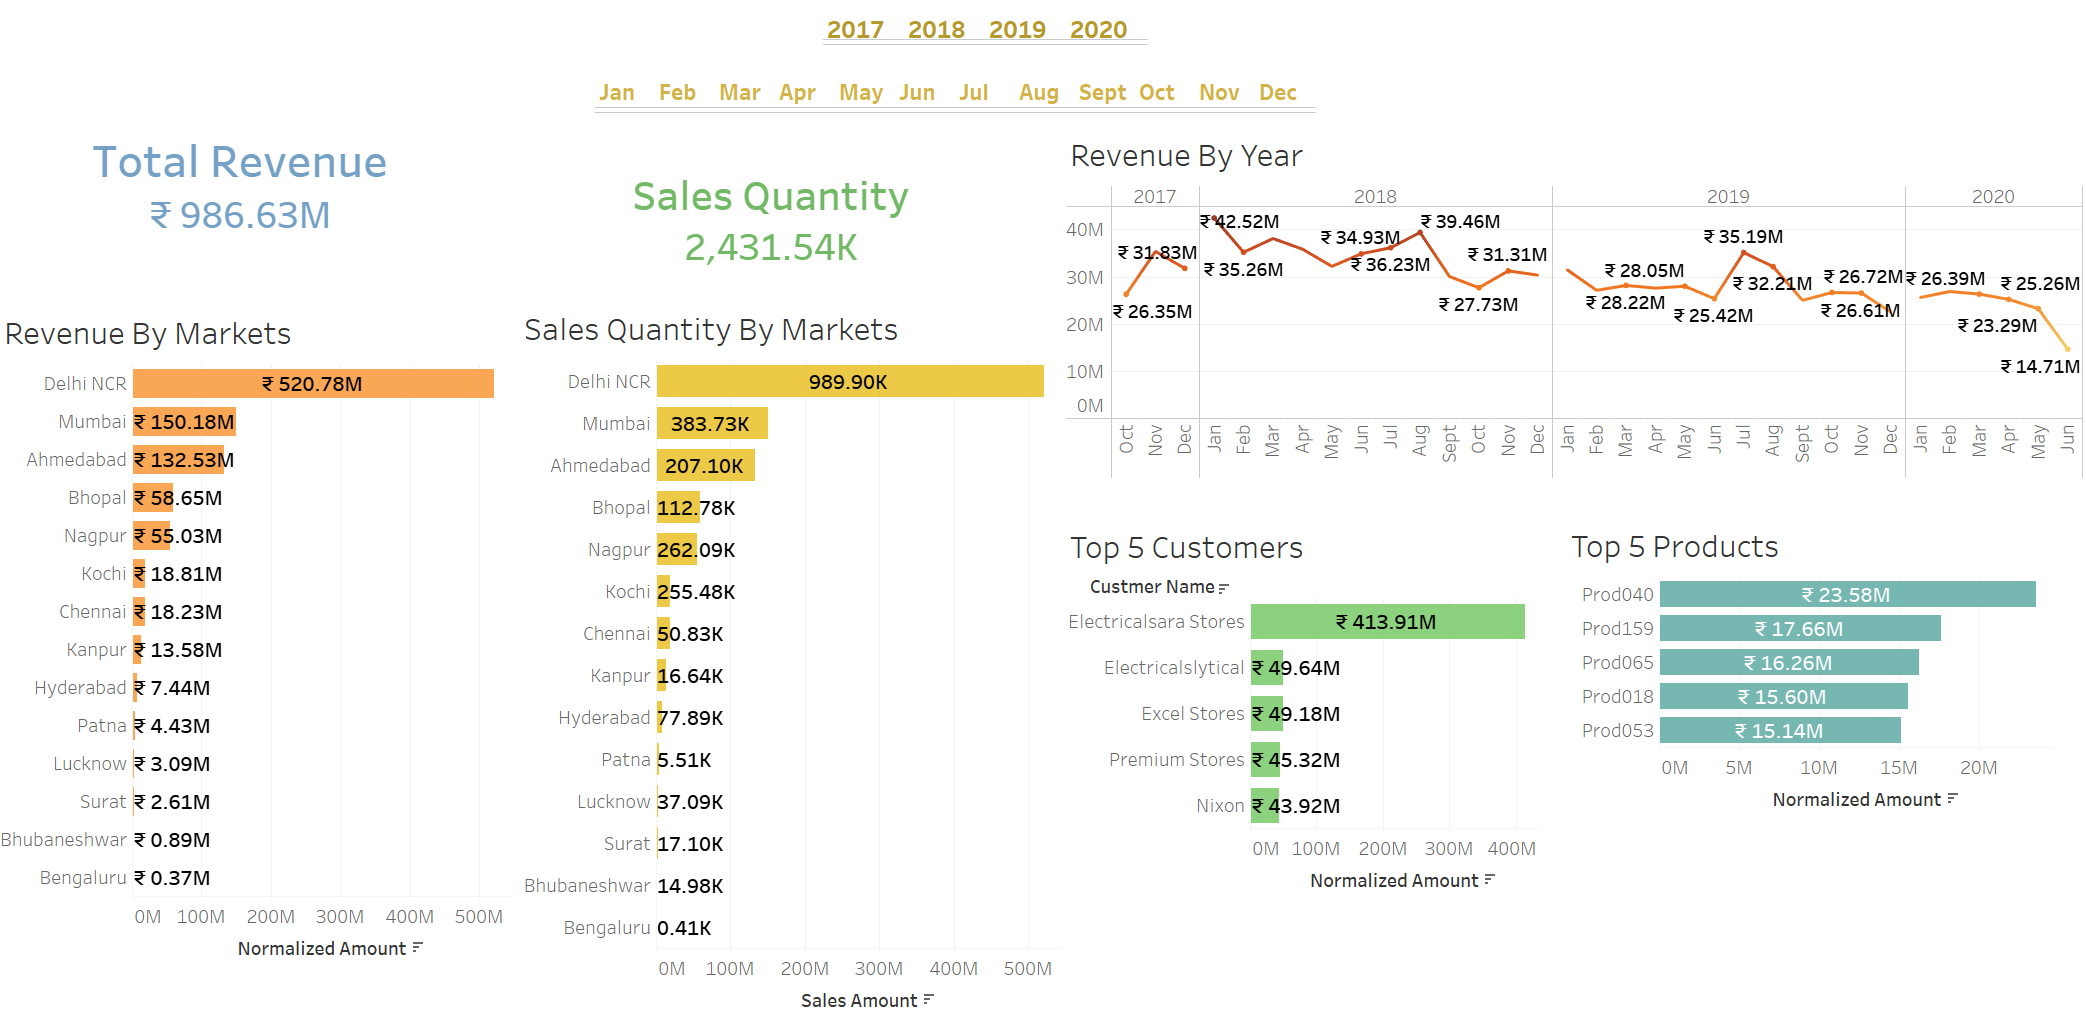

What the dashboard file says about the page in this screenshot:
{"tool":"tableau","page":{"name":"Dashboard 1","canvas":[2100,1050],"ordinal":0},"visuals":[{"type":"worksheet","title":"Year","mark":"Automatic","cols":["cy_date"],"box":[828.3,10,382.7,79]},{"type":"worksheet","title":"Month","mark":"Automatic","cols":["cy_date"],"box":[600,82,856,58]},{"type":"worksheet","title":"Revenue","mark":"Automatic","box":[85.2,136,376.8,130]},{"type":"worksheet","title":"Revenue By Year","mark":"Automatic","rows":["Calculation_1883067660097892352"],"cols":["cy_date","cy_date"],"box":[1071,136,1017,350]},{"type":"worksheet","title":"Quantity","mark":"Automatic","box":[626,173,356,113]},{"type":"worksheet","title":"Sales Quantity By Markets","mark":"Automatic","rows":["markets_name"],"cols":["sales_amount"],"box":[525,310,543,740]},{"type":"worksheet","title":"Revenue By Markets","mark":"Automatic","rows":["markets_name"],"cols":["Calculation_1883067660097892352"],"box":[5,314,512,736]},{"type":"worksheet","title":"Top 5 Products","mark":"Automatic","rows":["product_code (products)"],"cols":["Calculation_1883067660097892352"],"box":[1572,527,488,422]},{"type":"worksheet","title":"Top 5 Customers","mark":"Automatic","rows":["custmer_name"],"cols":["Calculation_1883067660097892352"],"box":[1071,528,473,434]}]}

Visuals, with their boxes in screenshot pixels (x1, y1, x2, y2), scaled from the page's 2100x1050 canvas onto the 2086x1022 screenshot:
"Year" worksheet: 823, 10, 1203, 87
"Month" worksheet: 596, 80, 1446, 136
"Revenue" worksheet: 85, 132, 459, 259
"Revenue By Year" worksheet: 1064, 132, 2074, 473
"Quantity" worksheet: 622, 168, 975, 278
"Sales Quantity By Markets" worksheet: 522, 302, 1061, 1021
"Revenue By Markets" worksheet: 5, 306, 514, 1021
"Top 5 Products" worksheet: 1562, 513, 2046, 924
"Top 5 Customers" worksheet: 1064, 514, 1534, 936
